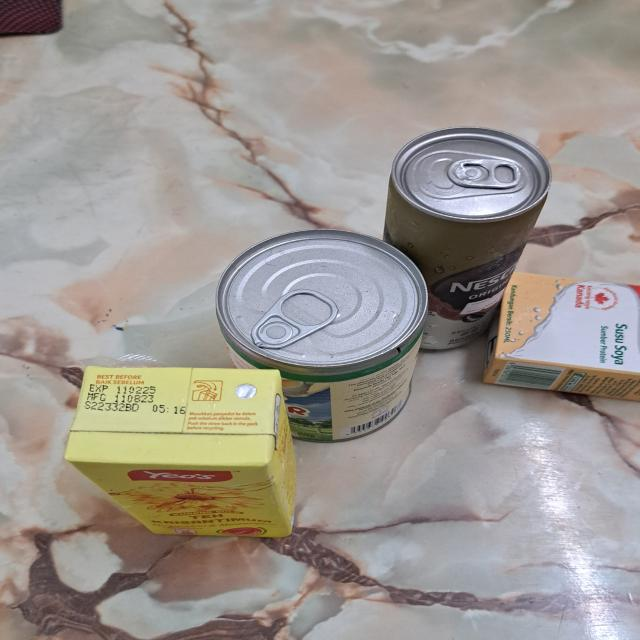can: (215, 226, 430, 442), (384, 124, 550, 354)
drink carton: (64, 366, 300, 538), (486, 269, 640, 402)
pop tab: (252, 291, 340, 351), (447, 154, 522, 190)
